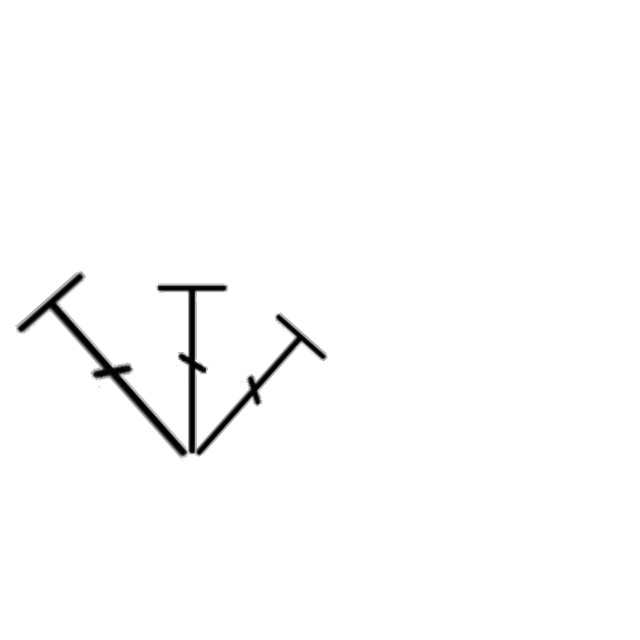double treble: (7, 260, 229, 493), (166, 306, 336, 485), (154, 277, 232, 461)
